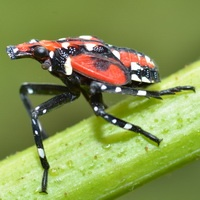insect: (0, 61, 199, 199)
